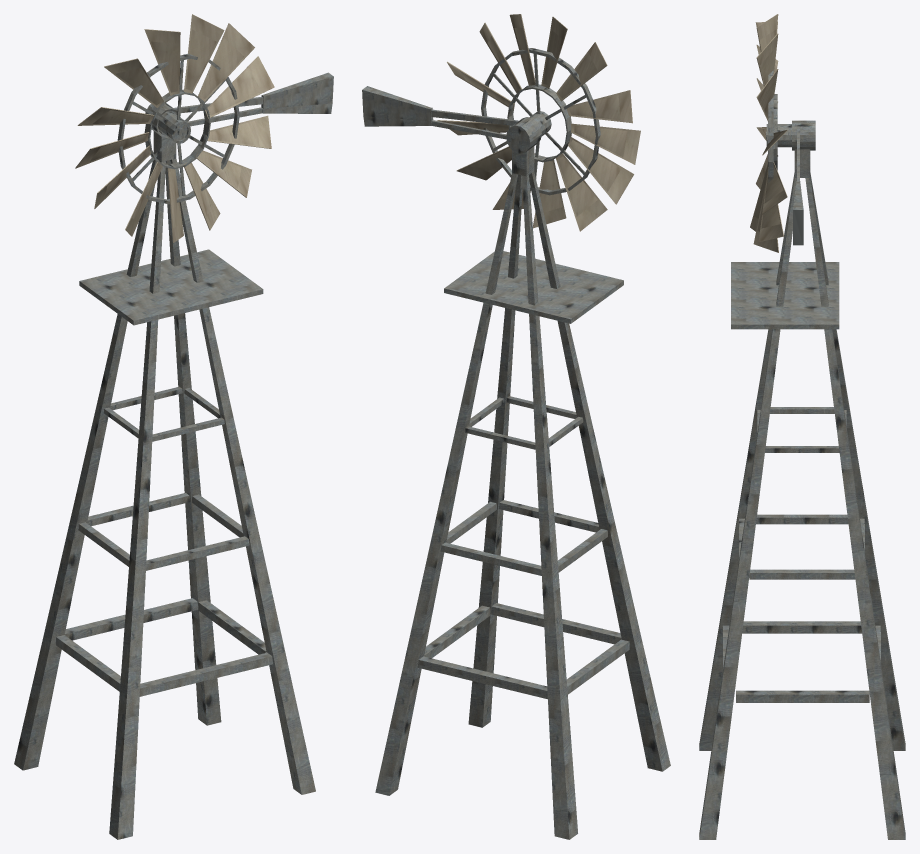
The model's file is weathervien.obj.
3 views of the same model, side by side, from view 1: azimuth 30°, elevation 25°; view 2: azimuth 150°, elevation 25°; view 3: azimuth 270°, elevation 25° (orthographic). The views are drawn at different scales.
Visible parts, largest first — view 1: panel_1b.jpg, cloth.jpg; view 2: panel_1b.jpg, cloth.jpg; view 3: panel_1b.jpg, cloth.jpg.
Boxes of the visible parts, <box> form: panel_1b.jpg: <box>14,53,333,839</box>; cloth.jpg: <box>75,14,274,242</box>; panel_1b.jpg: <box>362,48,670,839</box>; cloth.jpg: <box>437,14,640,231</box>; panel_1b.jpg: <box>699,69,905,839</box>; cloth.jpg: <box>750,14,787,252</box>.
Bounding box in the file's own units: 16.05 × 44.34 × 10.83.
2 materials, 2 textured.
